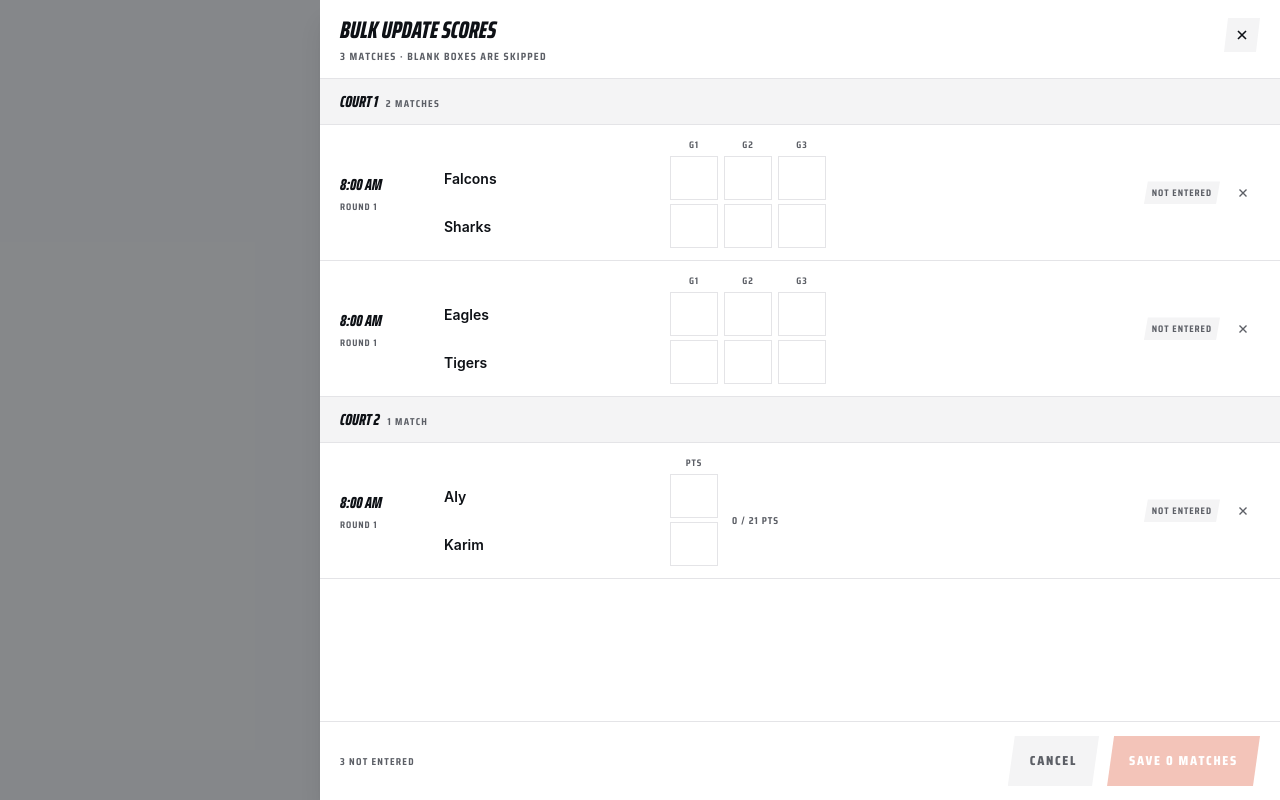
saves nothing while any changed row has errors
Type "21" into the field named "Falcons game 1". click: (694, 178)
box: x1=670 y1=156 x2=718 y2=200
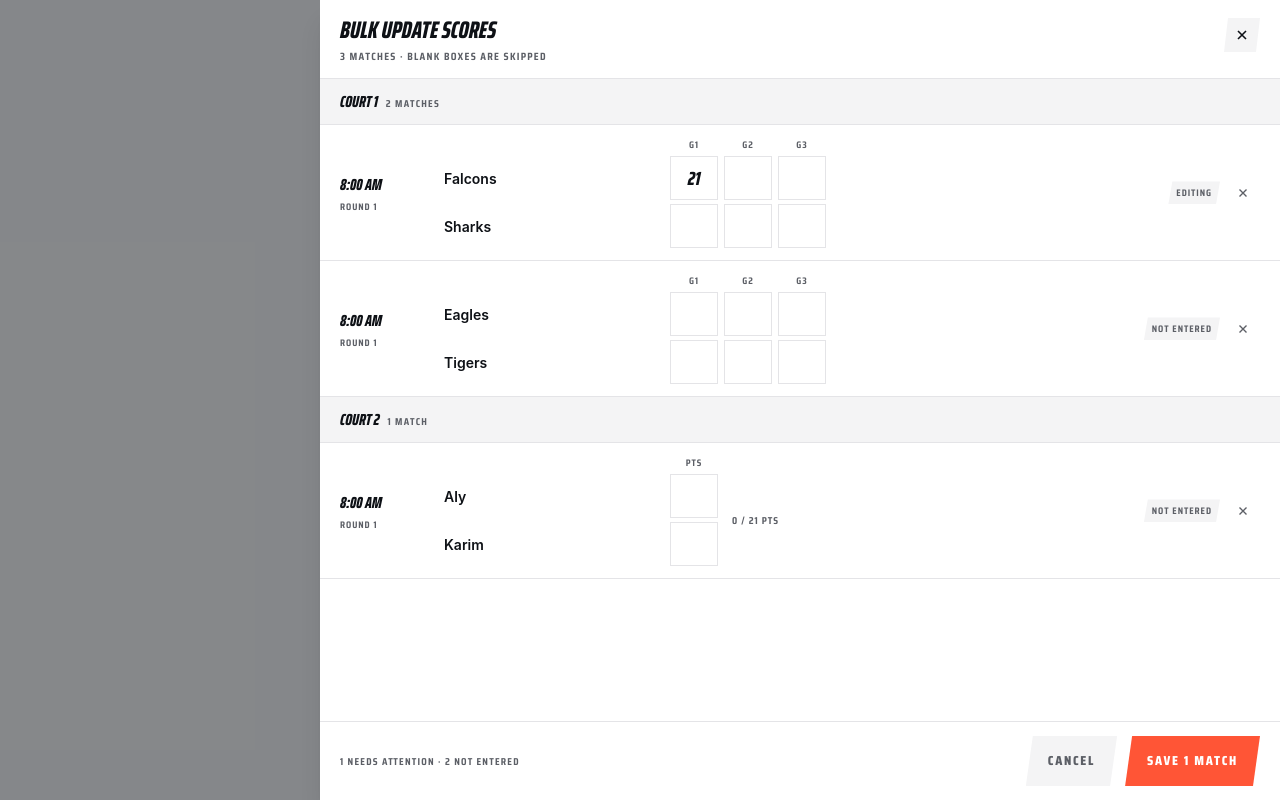
Type "21" into the field named "Sharks game 1". click: (694, 226)
box: x1=670 y1=204 x2=718 y2=248
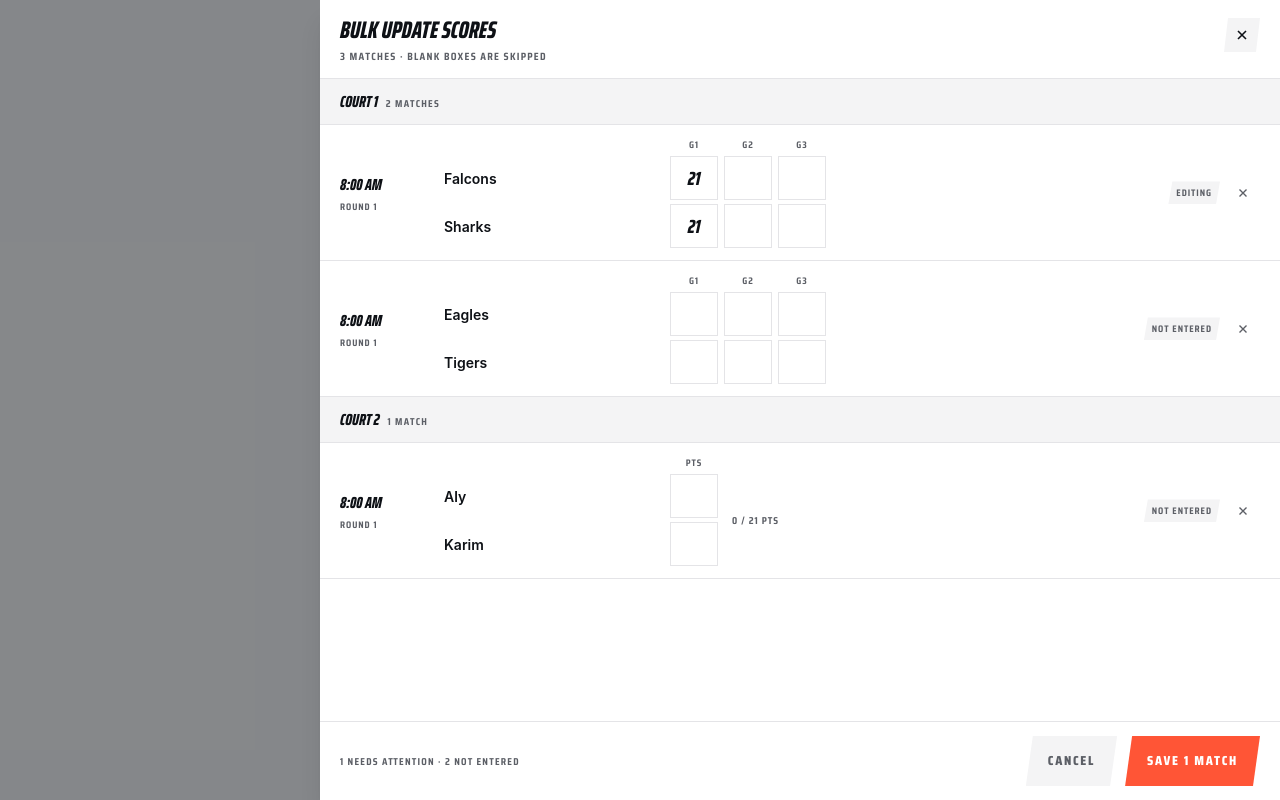
Click the button "Save 1 match". click: (1193, 761)
box: x1=1125 y1=736 x2=1260 y2=786
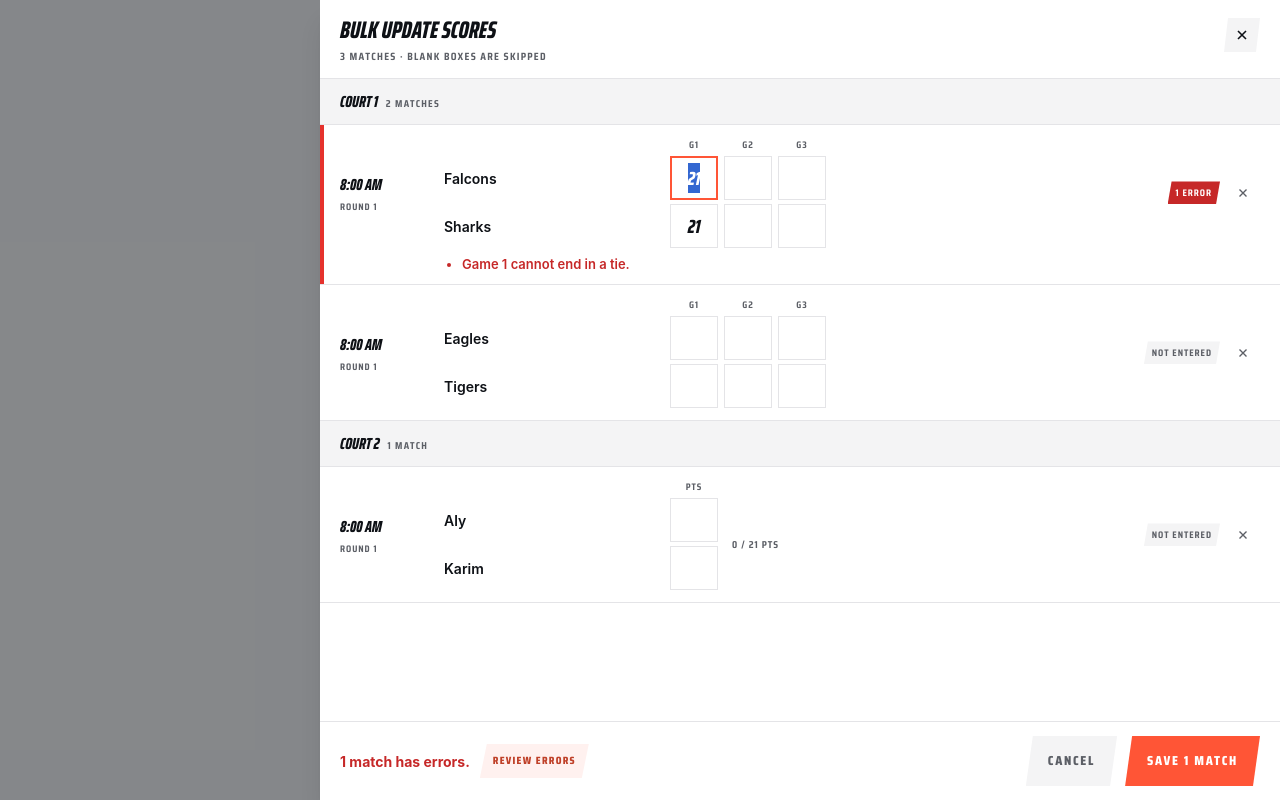
Result: the message shows "1 match has errors." at x1=340 y1=752 x2=470 y2=770
Result: the list item "Game 1 cannot end in a tie." is shown at x1=462 y1=256 x2=630 y2=272
